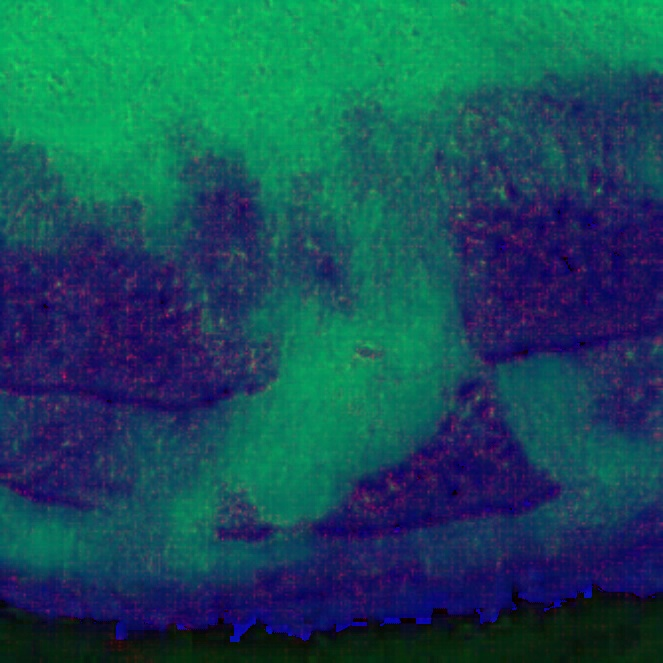rip_current: (134, 156, 532, 539)
